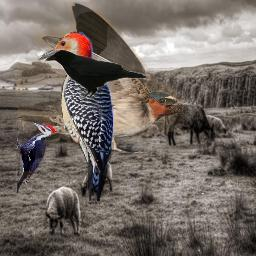Crow: (42, 47, 146, 99)
Swallow: (16, 2, 184, 155)
Woodpecker: (38, 31, 114, 201), (16, 122, 60, 195)
